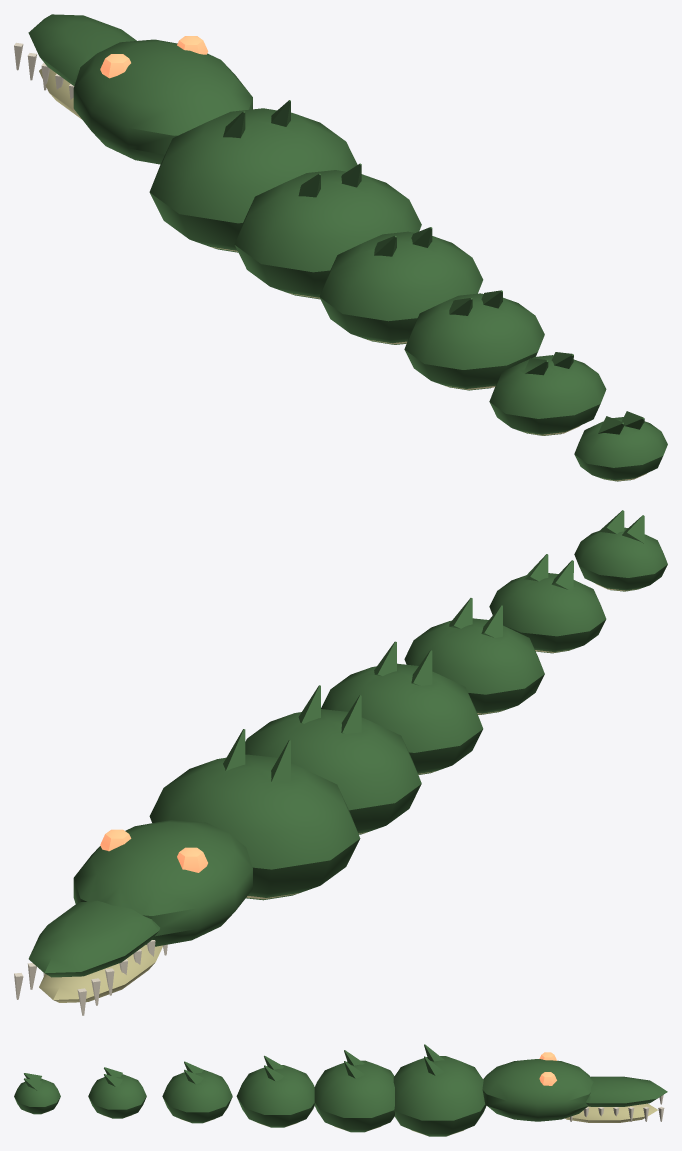
File: Snapjaw.fbx
3 views of the same model, one above another, from view 1: azimuth 30°, elevation 25°; view 2: azimuth 150°, elevation 25°; view 3: azimuth 270°, elevation 25° (orthographic). The views are drawn at different scales.
Visible parts, largest first — view 1: Head_Scale, Seg1_Scale, Seg2_Scale, Seg3_Scale, Seg4_Scale, Seg5_Scale, Seg6_Scale, Head_Eye, Head_Bone; view 2: Head_Scale, Seg1_Scale, Seg2_Scale, Seg3_Scale, Seg4_Scale, Seg5_Scale, Seg6_Scale, Head_ScaleBelly, Head_Bone, Head_Eye; view 3: Head_Scale, Seg1_Scale, Seg2_Scale, Seg3_Scale, Seg4_Scale, Seg5_Scale, Seg6_Scale, Head_ScaleBelly, Head_Bone, Head_Eye.
Part boxes in pixels (bbox=[...]): Head_Scale: bbox=[28, 14, 252, 164]; Seg1_Scale: bbox=[149, 100, 357, 252]; Seg2_Scale: bbox=[234, 163, 421, 299]; Seg3_Scale: bbox=[319, 227, 483, 344]; Seg4_Scale: bbox=[404, 290, 544, 390]; Seg5_Scale: bbox=[489, 352, 606, 435]; Seg6_Scale: bbox=[574, 411, 667, 481]; Head_Eye: bbox=[100, 36, 208, 78]; Head_Bone: bbox=[14, 42, 74, 99]; Head_Scale: bbox=[28, 819, 252, 977]; Seg1_Scale: bbox=[149, 729, 360, 900]; Seg2_Scale: bbox=[245, 685, 421, 834]; Seg3_Scale: bbox=[321, 641, 483, 774]; Seg4_Scale: bbox=[404, 598, 544, 714]; Seg5_Scale: bbox=[489, 554, 606, 653]; Seg6_Scale: bbox=[574, 510, 667, 591]; Head_ScaleBelly: bbox=[39, 944, 162, 1002]; Head_Bone: bbox=[14, 940, 167, 1015]; Head_Eye: bbox=[100, 829, 207, 872]; Head_Scale: bbox=[482, 1059, 667, 1121]; Seg1_Scale: bbox=[393, 1044, 486, 1136]; Seg2_Scale: bbox=[314, 1050, 394, 1132]; Seg3_Scale: bbox=[236, 1055, 314, 1127]; Seg4_Scale: bbox=[162, 1061, 232, 1123]; Seg5_Scale: bbox=[88, 1067, 146, 1118]; Seg6_Scale: bbox=[14, 1073, 60, 1114]; Head_ScaleBelly: bbox=[565, 1103, 657, 1122]; Head_Bone: bbox=[570, 1095, 664, 1121]; Head_Eye: bbox=[539, 1052, 556, 1085].
Bounding box in the file's own units: 3.42 × 2.6 × 19.6.
